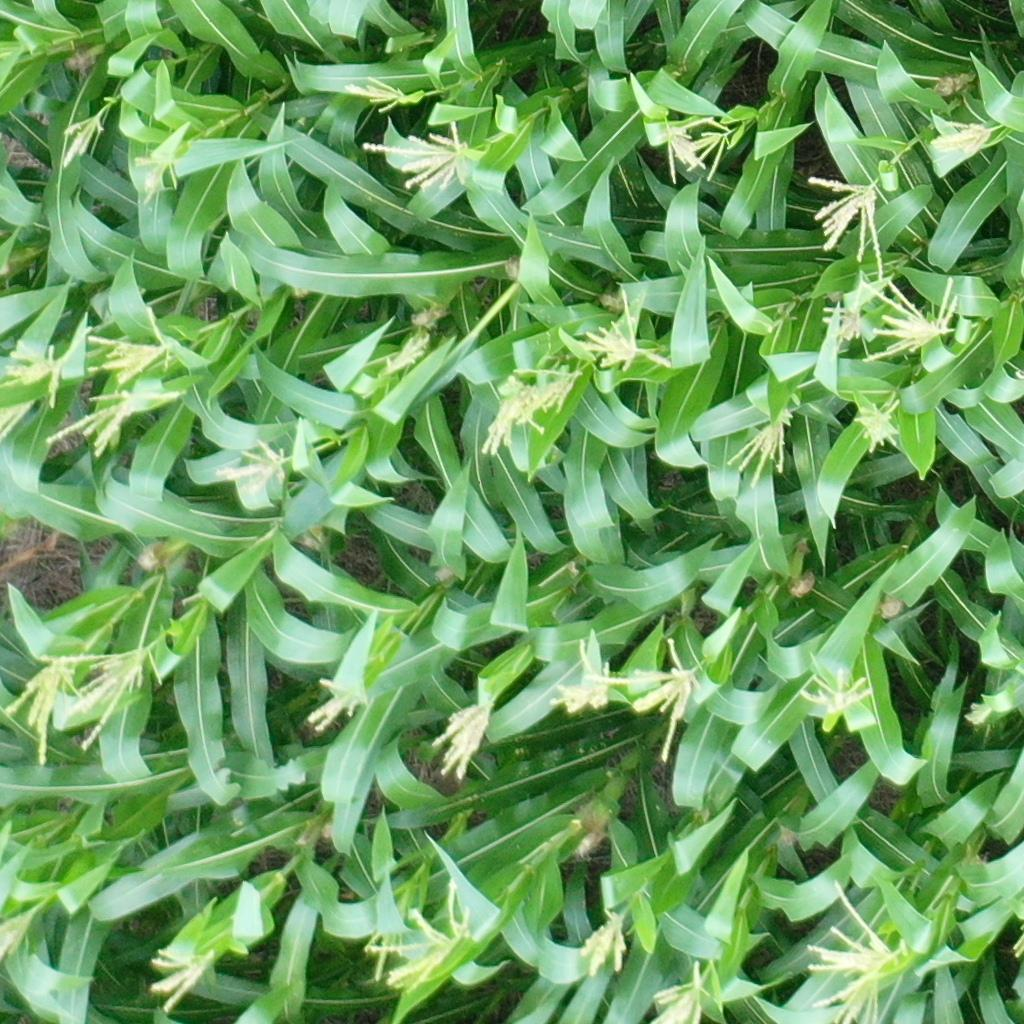Tassel: (590, 635, 704, 765), (42, 642, 166, 751), (371, 879, 479, 993), (808, 877, 902, 987), (42, 389, 184, 460), (804, 169, 888, 278), (358, 121, 480, 196), (2, 657, 85, 766), (862, 278, 963, 362), (579, 290, 672, 376), (2, 325, 93, 409), (86, 306, 181, 384), (424, 694, 498, 783), (722, 410, 795, 492), (483, 378, 548, 459), (550, 635, 613, 714), (146, 946, 216, 1015), (212, 440, 293, 498), (645, 959, 716, 1024), (800, 664, 877, 719), (513, 365, 583, 425), (845, 397, 907, 459), (305, 674, 370, 732), (575, 908, 630, 975), (813, 970, 881, 1024), (813, 278, 862, 352), (927, 116, 1003, 161), (685, 117, 736, 184), (57, 102, 107, 168), (1, 894, 46, 961), (374, 333, 436, 380), (343, 73, 408, 116), (132, 146, 182, 201), (360, 923, 404, 982), (664, 128, 706, 182), (1, 396, 39, 445), (960, 699, 993, 728)
